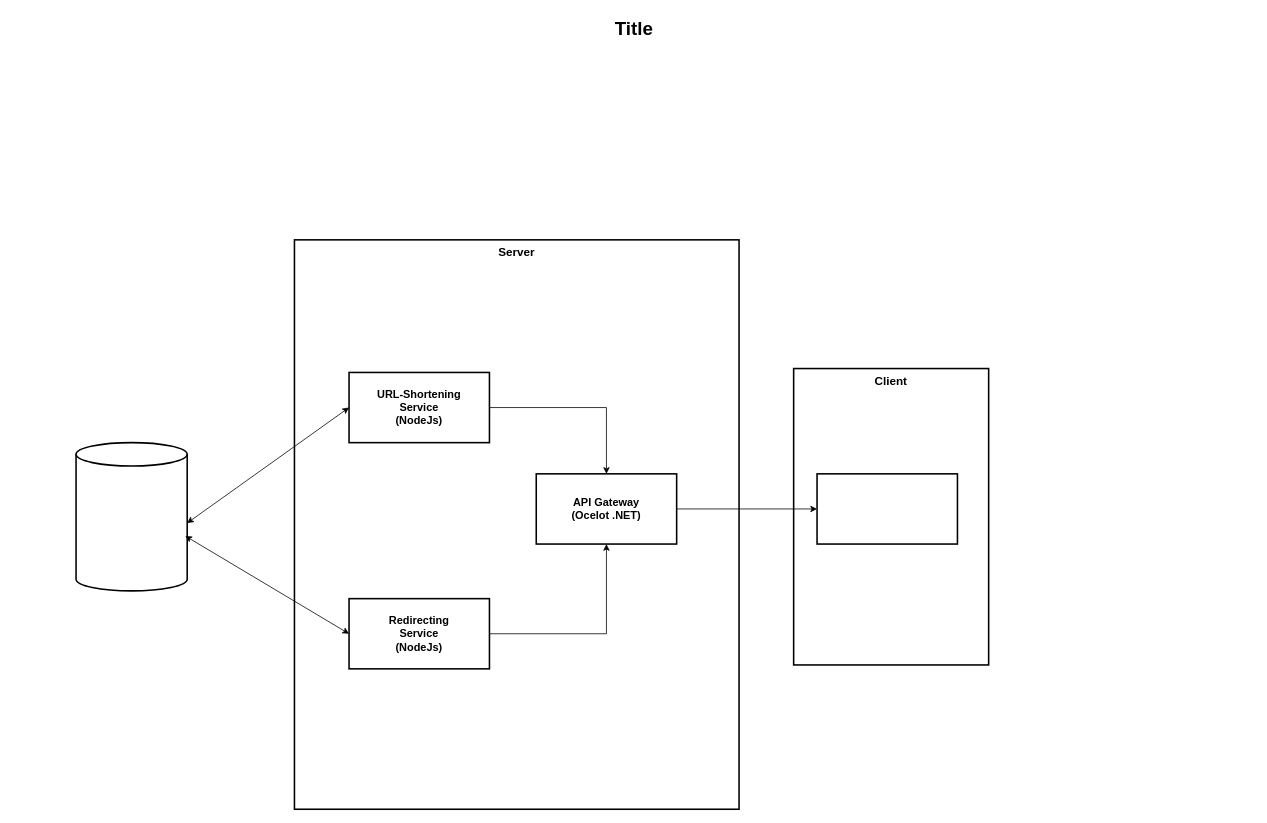
This 1267x823 diagram has some shape labels left out. Each missing label, with the centre of its shape:
MongoDB (NoSQL): the point at 131,516
React JS: the point at 887,508
